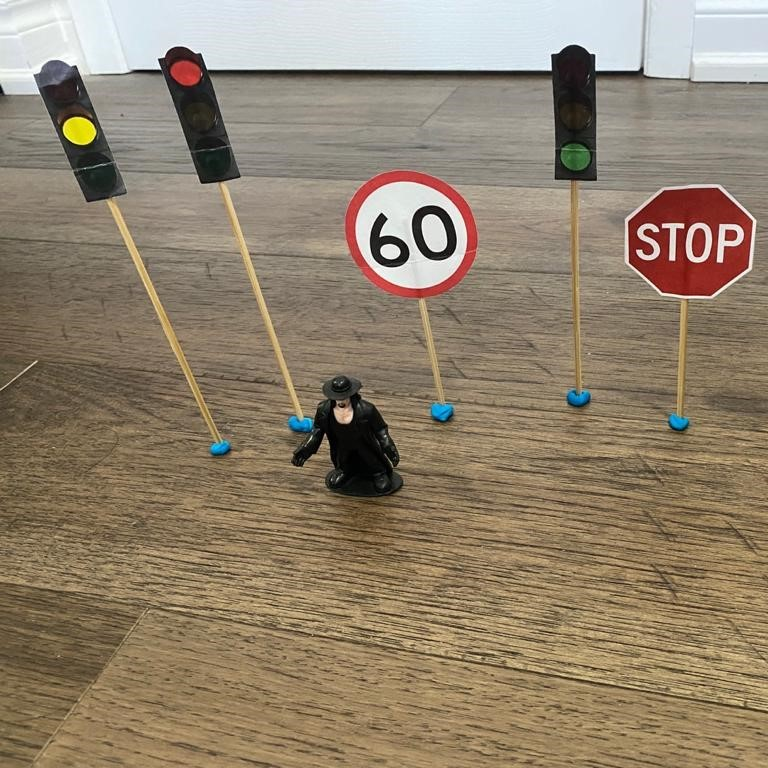Green Traffic Light: (543, 42, 605, 188)
Person: (289, 369, 406, 514)
Red Traffic Light: (152, 46, 246, 184)
Speed Limit 60: (340, 166, 479, 302)
Stop Sign: (620, 181, 763, 305)
Yellow Traffic Light: (25, 58, 133, 205)
